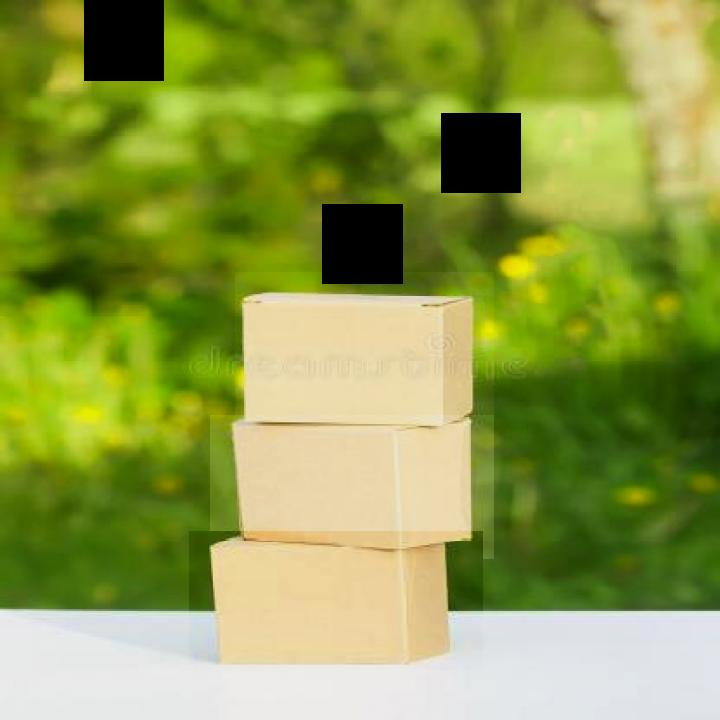box: (235, 272, 494, 445), (210, 415, 494, 559), (189, 531, 483, 670)
